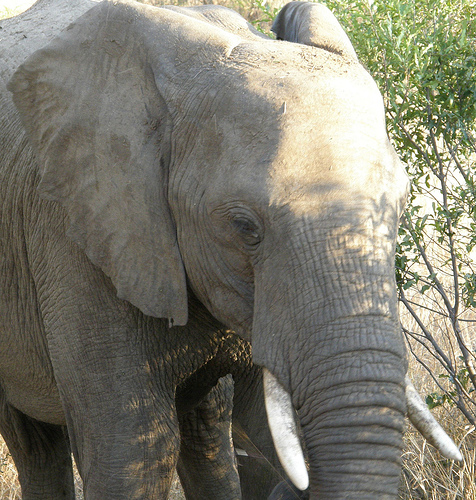elephant: (1, 1, 462, 500)
